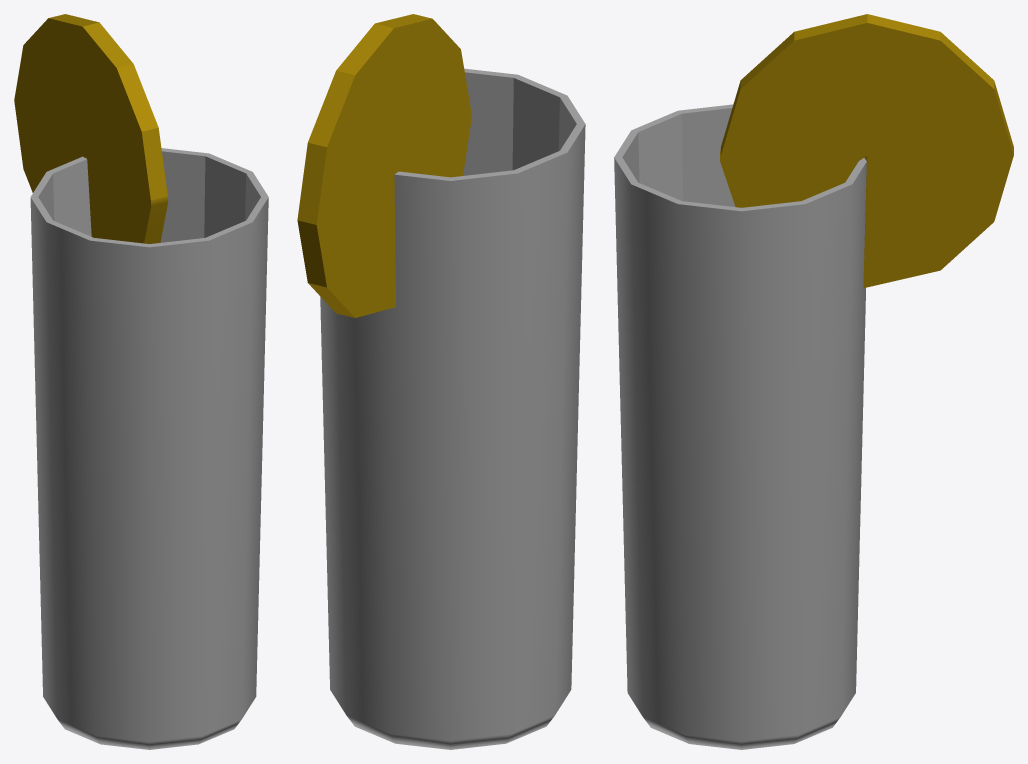
File: SM_JusFruit.fbx
3 renders of one model, left to right at view 1: azimuth 30°, elevation 25°; view 2: azimuth 150°, elevation 25°; view 3: azimuth 270°, elevation 25°, orthographic. The views are drawn at different scales.
Parts seen in each view (by area): view 1: SM_JusFruit; view 2: SM_JusFruit; view 3: SM_JusFruit.
Part boxes in pixels (x1,y1,x2,y2): SM_JusFruit: (14, 14, 268, 749); SM_JusFruit: (297, 14, 585, 749); SM_JusFruit: (614, 14, 1013, 749).
Bounding box in the file's own units: 5.09 × 15.12 × 7.97.
